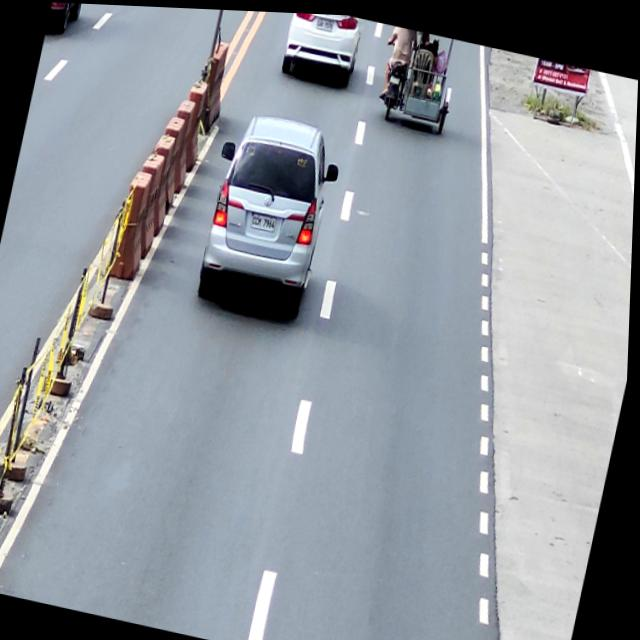Car: (192, 102, 349, 320), (279, 10, 365, 86), (45, 2, 89, 38)
License-Plate: (249, 206, 280, 230), (314, 11, 335, 31), (387, 70, 402, 84)
Tricycle: (372, 21, 464, 132)
